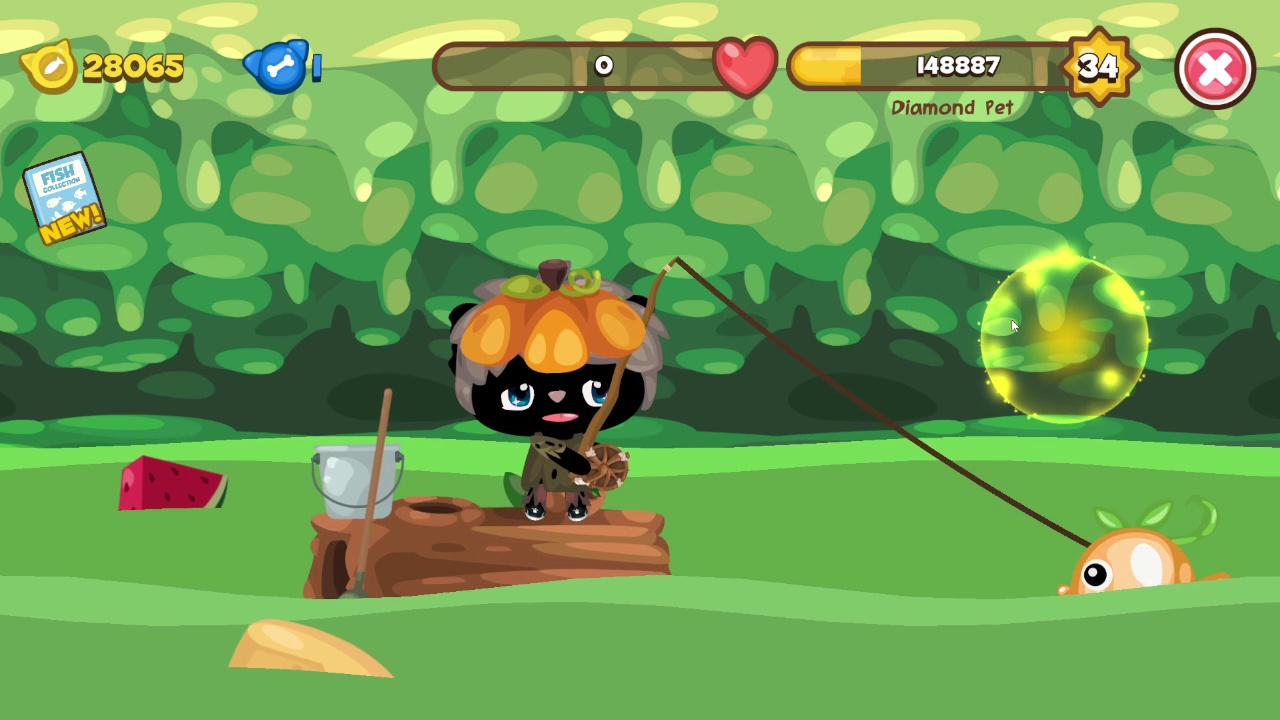point: (979, 252, 1152, 421)
